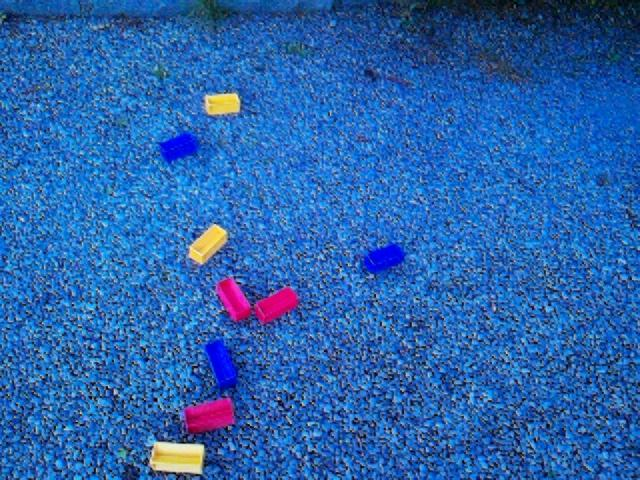blue: (205, 339, 238, 390), (363, 242, 406, 275), (158, 132, 200, 164)
red: (183, 397, 236, 435), (254, 286, 300, 325), (215, 277, 252, 323)
yellow: (149, 441, 206, 476), (188, 223, 229, 265), (204, 92, 241, 117)
